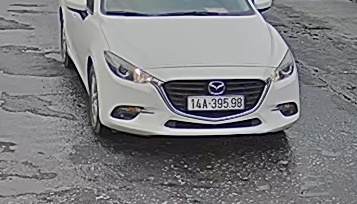vehicle plate: (182, 92, 247, 112)
